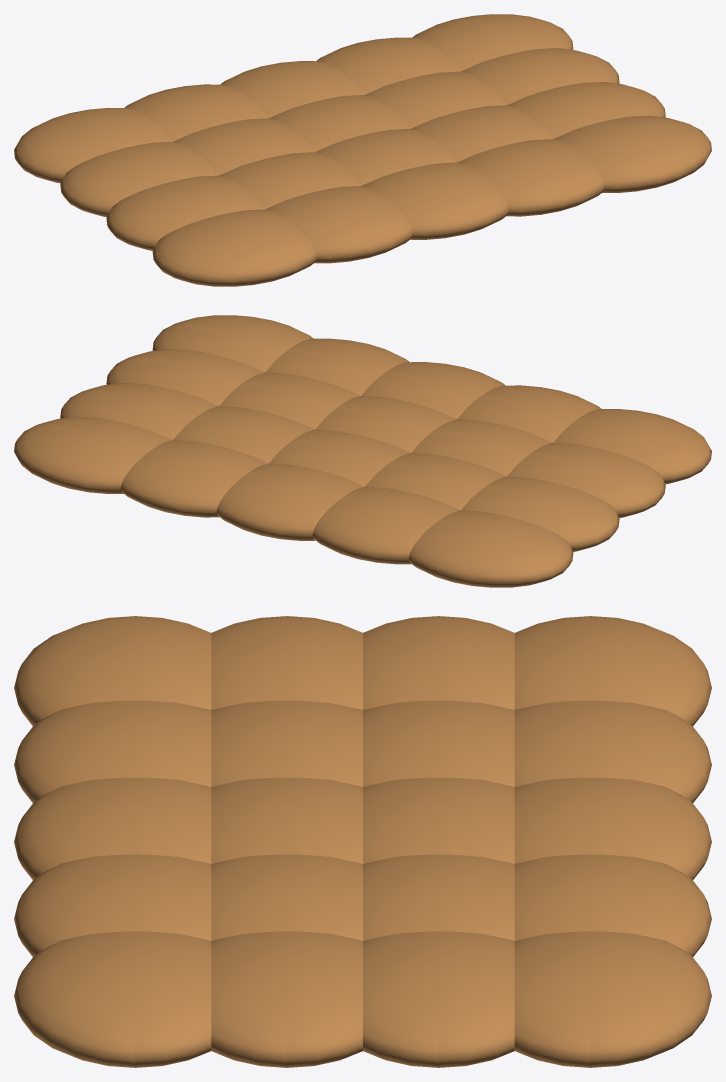
The model's file is escalas.glb.
The picture shows the model from 3 angles, top to bottom: view 1: azimuth 30°, elevation 25°; view 2: azimuth 150°, elevation 25°; view 3: azimuth 270°, elevation 25°; orthographic projection. The views are drawn at different scales.
Visible parts, largest first — view 1: Placa simbólica.015, Placa simbólica.019, Placa simbólica.016, Placa simbólica.018, Placa simbólica.017, Placa simbólica, Placa simbólica.010, Placa simbólica.005, Placa simbólica.004, Placa simbólica.009, Placa simbólica.014, Placa simbólica.003 (+8 smaller); view 2: Placa simbólica, Placa simbólica.004, Placa simbólica.001, Placa simbólica.003, Placa simbólica.002, Placa simbólica.015, Placa simbólica.005, Placa simbólica.010, Placa simbólica.019, Placa simbólica.014, Placa simbólica.009, Placa simbólica.018 (+8 smaller); view 3: Placa simbólica.004, Placa simbólica.019, Placa simbólica.009, Placa simbólica.014, Placa simbólica, Placa simbólica.015, Placa simbólica.003, Placa simbólica.018, Placa simbólica.002, Placa simbólica.017, Placa simbólica.001, Placa simbólica.016 (+8 smaller).
Boxes of the visible parts, left/top/right/bottom form: Placa simbólica.015: left=152, top=209, right=317, bottom=286; Placa simbólica.019: left=553, top=115, right=711, bottom=192; Placa simbólica.016: left=265, top=186, right=413, bottom=263; Placa simbólica.018: left=457, top=139, right=605, bottom=216; Placa simbólica.017: left=362, top=162, right=509, bottom=239; Placa simbólica: left=14, top=108, right=172, bottom=183; Placa simbólica.010: left=106, top=175, right=264, bottom=250; Placa simbólica.005: left=60, top=142, right=218, bottom=216; Placa simbólica.004: left=412, top=14, right=573, bottom=71; Placa simbólica.009: left=461, top=48, right=619, bottom=104; Placa simbólica.014: left=507, top=82, right=665, bottom=138; Placa simbólica.003: left=316, top=37, right=460, bottom=94; Placa simbólica: left=408, top=510, right=573, bottom=587; Placa simbólica.004: left=14, top=416, right=172, bottom=493; Placa simbólica.001: left=312, top=487, right=460, bottom=564; Placa simbólica.003: left=120, top=440, right=268, bottom=517; Placa simbólica.002: left=216, top=463, right=363, bottom=540; Placa simbólica.015: left=553, top=409, right=711, bottom=484; Placa simbólica.005: left=461, top=476, right=619, bottom=551; Placa simbólica.010: left=507, top=443, right=665, bottom=517; Placa simbólica.019: left=152, top=315, right=313, bottom=372; Placa simbólica.014: left=106, top=349, right=264, bottom=405; Placa simbólica.009: left=60, top=383, right=218, bottom=439; Placa simbólica.018: left=265, top=338, right=409, bottom=395; Placa simbólica.004: left=514, top=931, right=711, bottom=1067; Placa simbólica.019: left=14, top=931, right=211, bottom=1067; Placa simbólica.009: left=363, top=931, right=514, bottom=1067; Placa simbólica.014: left=211, top=931, right=362, bottom=1067; Placa simbólica: left=514, top=616, right=711, bottom=725; Placa simbólica.015: left=14, top=616, right=211, bottom=725; Placa simbólica.003: left=514, top=854, right=711, bottom=956; Placa simbólica.018: left=14, top=854, right=211, bottom=956; Placa simbólica.002: left=514, top=777, right=711, bottom=879; Placa simbólica.017: left=14, top=777, right=211, bottom=879; Placa simbólica.001: left=514, top=700, right=711, bottom=802; Placa simbólica.016: left=14, top=700, right=211, bottom=802.
Bounding box in the file's own units: 1.7 × 0.12 × 1.15.
